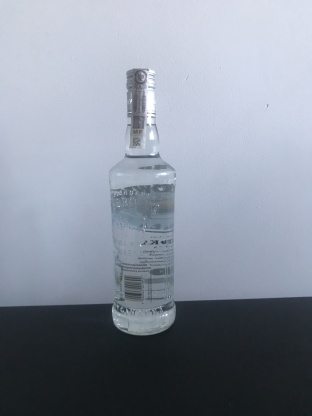nakretka: (123, 64, 158, 121)
